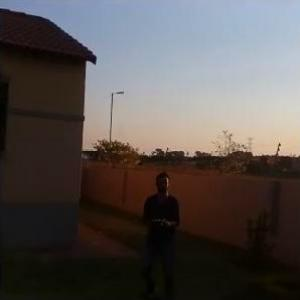follow: (136, 166, 187, 299)
